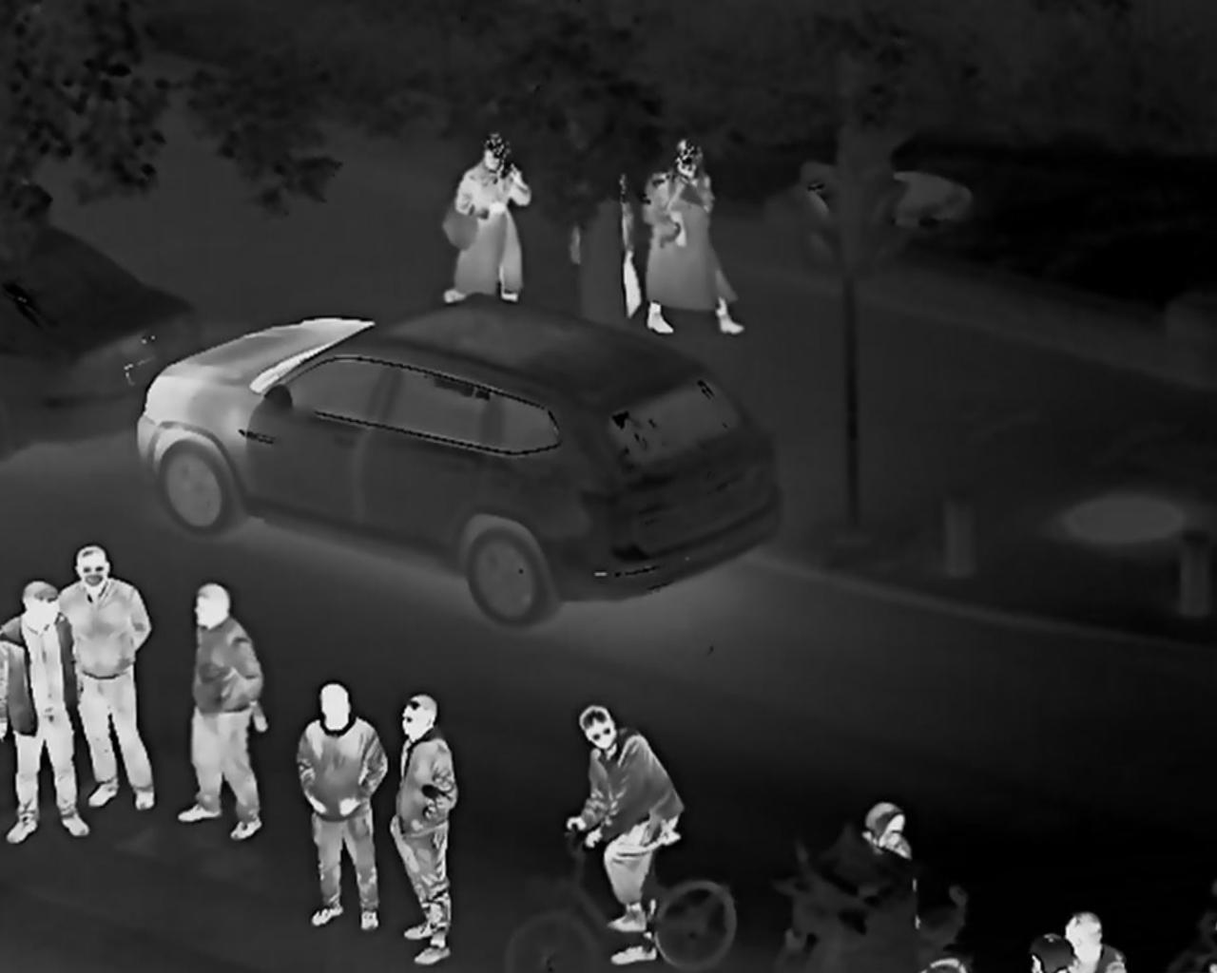person: (563, 685, 693, 929), (168, 575, 269, 836), (64, 528, 139, 811), (397, 684, 467, 945), (310, 663, 377, 924), (657, 128, 741, 334), (441, 111, 521, 325), (9, 580, 67, 845), (834, 779, 925, 932), (575, 160, 643, 324), (1016, 886, 1137, 973)
